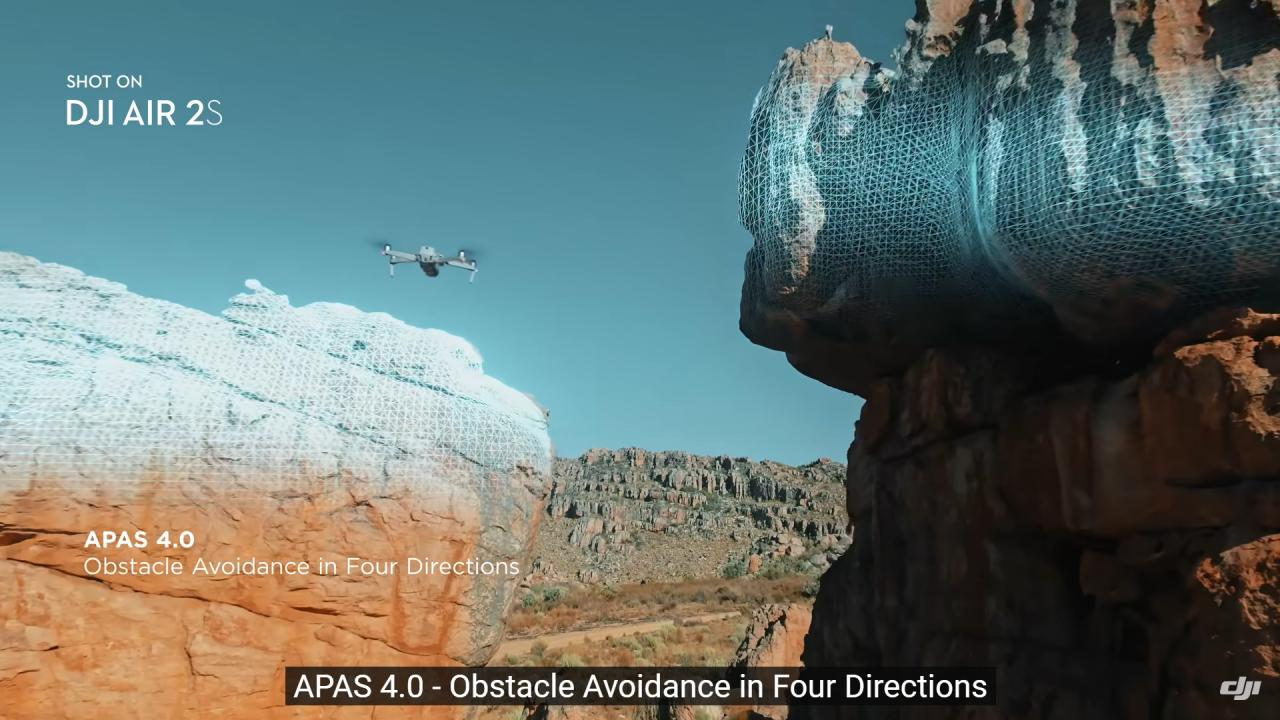Drone: (361, 228, 498, 292)
